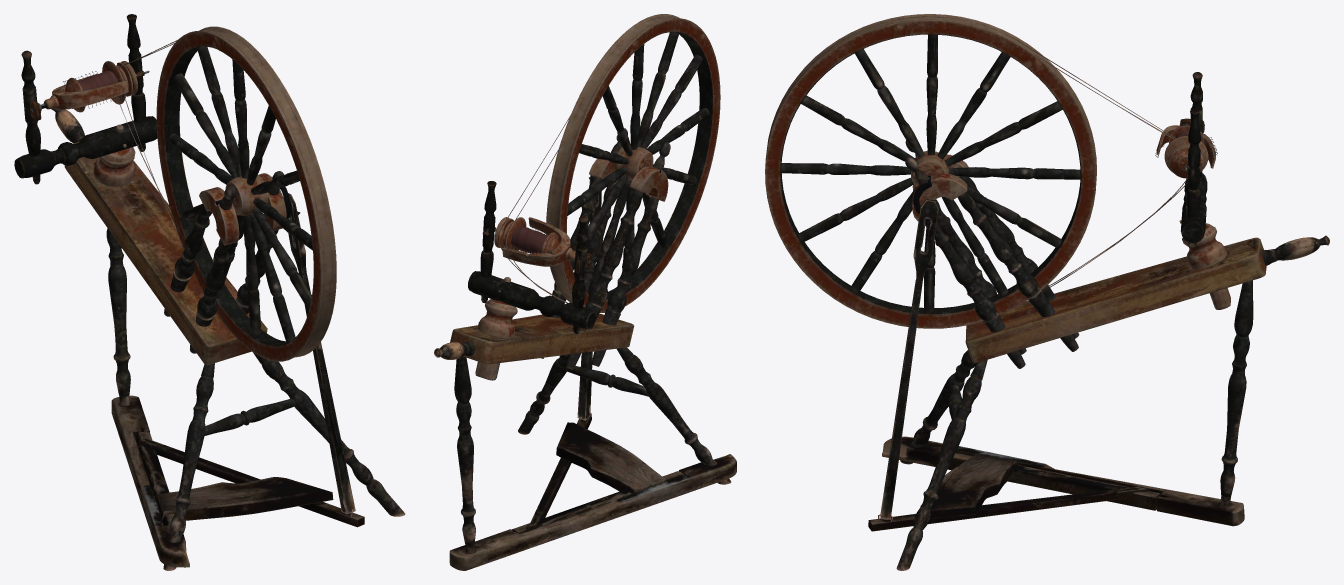
Rendered from spinning_wheel_01.glb.
3 views of the same model, side by side, from view 1: azimuth 30°, elevation 25°; view 2: azimuth 150°, elevation 25°; view 3: azimuth 270°, elevation 25° (orthographic). The views are drawn at different scales.
Visible parts, largest first — view 1: spinning_wheel_01; view 2: spinning_wheel_01; view 3: spinning_wheel_01.
Boxes of the visible parts, x1,y1,x2,y2 form: spinning_wheel_01: (14,14,405,570); spinning_wheel_01: (434,14,736,570); spinning_wheel_01: (765,14,1329,570).
Bounding box in the file's own units: 0.4894 × 0.9662 × 1.02.
Materials: 1 (1 with a texture image).
